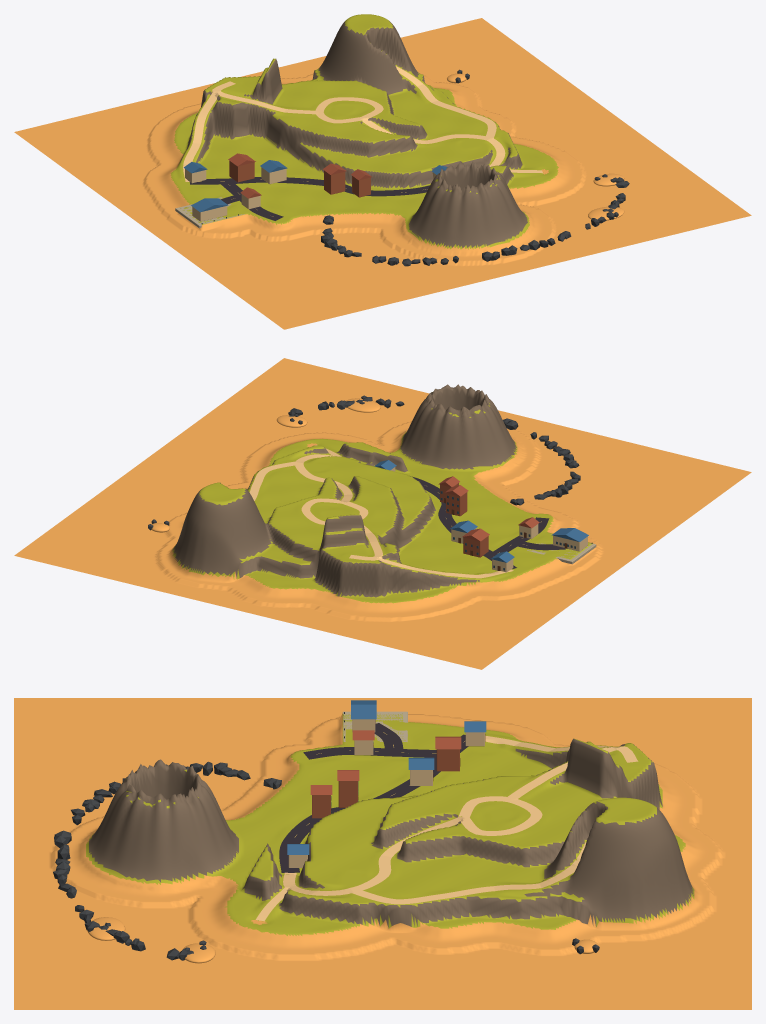
File: island.glb
3 renders of one model, top to bottom at view 1: azimuth 30°, elevation 25°; view 2: azimuth 150°, elevation 25°; view 3: azimuth 270°, elevation 25°, orthographic. The views are drawn at different scales.
Parts seen in each view (by area): view 1: ReferenceIslandGround, town-frontage, east-coastal-trail, garden-ascent, garden-loop, west-coast-walk, upper-ridge-path; view 2: ReferenceIslandGround, town-frontage, garden-ascent, garden-loop; view 3: ReferenceIslandGround, east-coastal-trail, garden-ascent, town-frontage, garden-loop, town-cross-street, upper-ridge-path, Port_Quay, Town_Studio_walls, Offshore_Sand_Islet.001, harbor-approach.
Part boxes in pixels (bbox=[...]): ReferenceIslandGround: bbox=[14, 14, 751, 329]; town-frontage: bbox=[190, 177, 429, 196]; east-coastal-trail: bbox=[395, 66, 496, 139]; garden-ascent: bbox=[362, 117, 505, 166]; garden-loop: bbox=[315, 97, 383, 123]; west-coast-walk: bbox=[183, 91, 219, 181]; upper-ridge-path: bbox=[212, 81, 319, 114]; ReferenceIslandGround: bbox=[14, 358, 751, 669]; town-frontage: bbox=[410, 476, 516, 568]; garden-ascent: bbox=[295, 454, 352, 501]; garden-loop: bbox=[301, 498, 368, 524]; ReferenceIslandGround: bbox=[14, 698, 751, 1009]; east-coastal-trail: bbox=[349, 842, 586, 904]; garden-ascent: bbox=[283, 815, 464, 895]; town-frontage: bbox=[279, 734, 468, 872]; garden-loop: bbox=[458, 796, 542, 835]; town-cross-street: bbox=[303, 747, 436, 759]; upper-ridge-path: bbox=[508, 746, 638, 800]; Port_Quay: bbox=[342, 711, 407, 741]; Town_Studio_walls: bbox=[436, 749, 459, 771]; Offshore_Sand_Islet.001: bbox=[87, 917, 125, 940]; harbor-approach: bbox=[374, 723, 403, 752].
Bounding box in the file's own units: 192 × 26.8 × 192.
